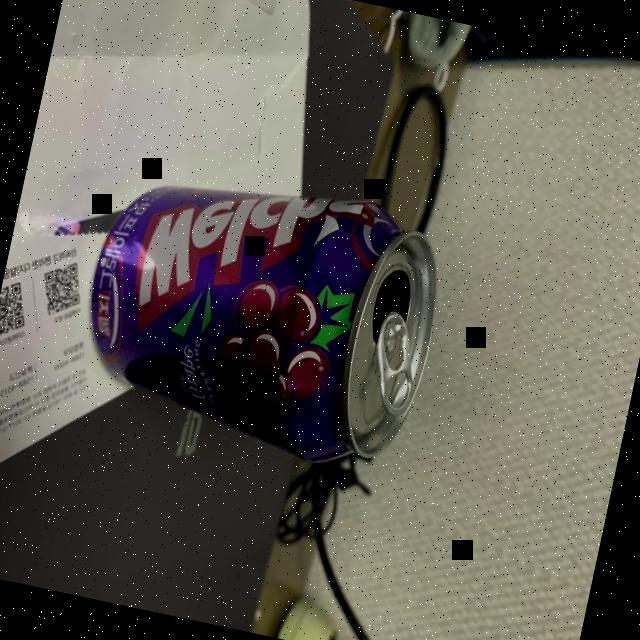can: (61, 152, 454, 482)
